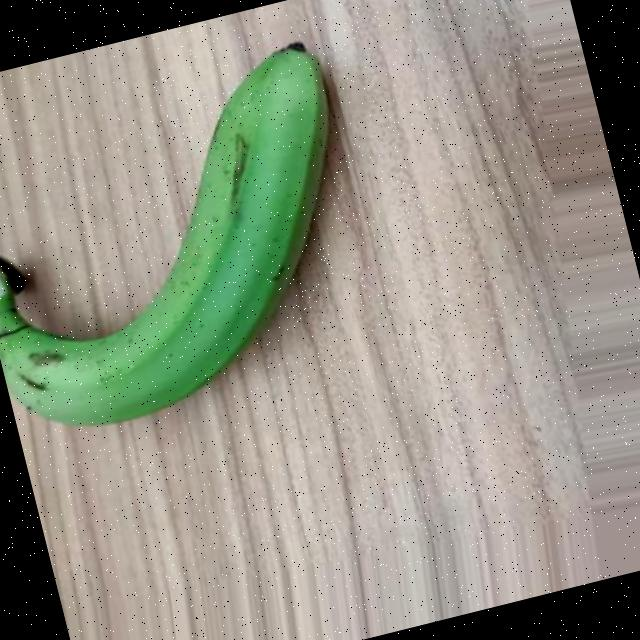Unripe: (0, 31, 395, 448)
